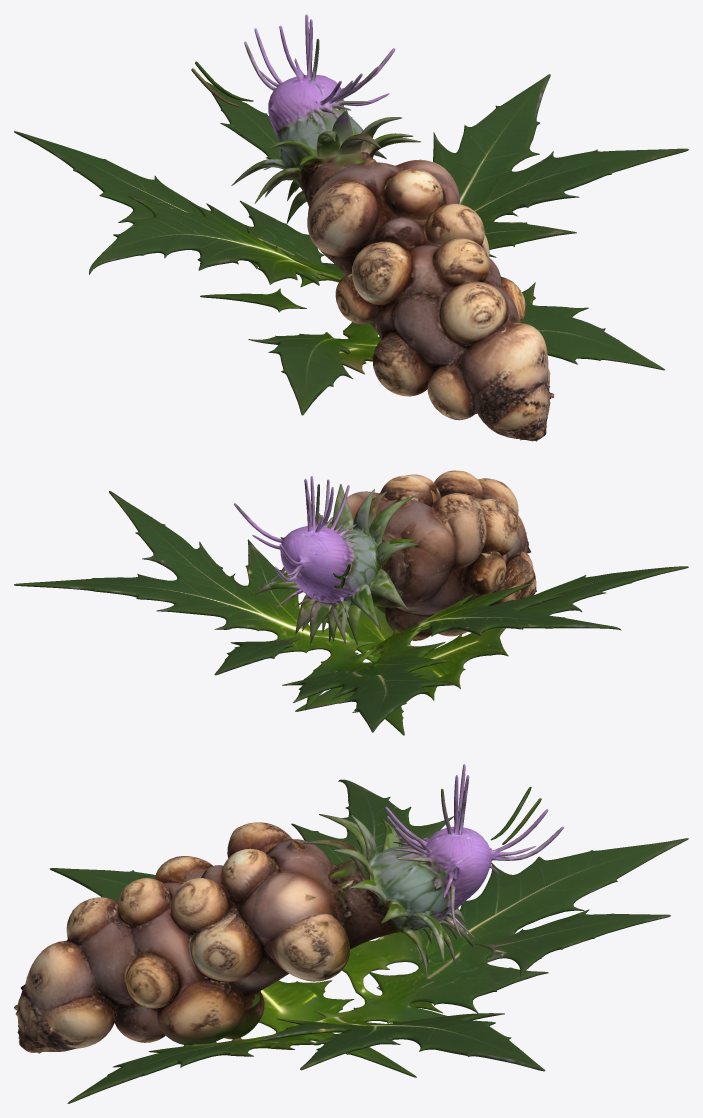
Rendered from baizhu.glb.
3 renders of one model, top to bottom at view 1: azimuth 30°, elevation 25°; view 2: azimuth 150°, elevation 25°; view 3: azimuth 270°, elevation 25°, orthographic. The views are drawn at different scales.
Parts seen in each view (by area): view 1: node_0; view 2: node_0; view 3: node_0.
Boxes of the visible parts, box(x1,y1,x2,y2) form: node_0: box(14, 14, 688, 441); node_0: box(14, 470, 688, 735); node_0: box(14, 764, 688, 1103).
Size of the model in its own units: 1 by 0.4661 by 1.
1 material, 1 textured.
